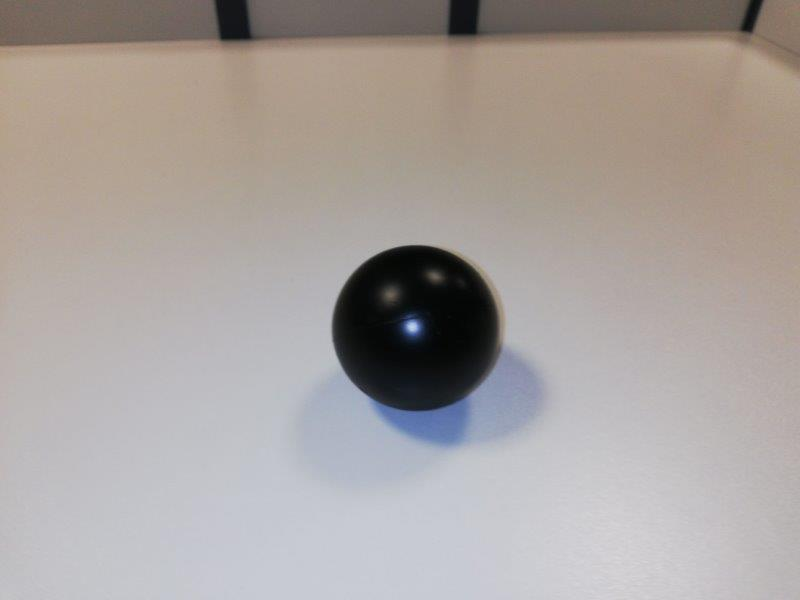nera: (330, 244, 504, 413)
